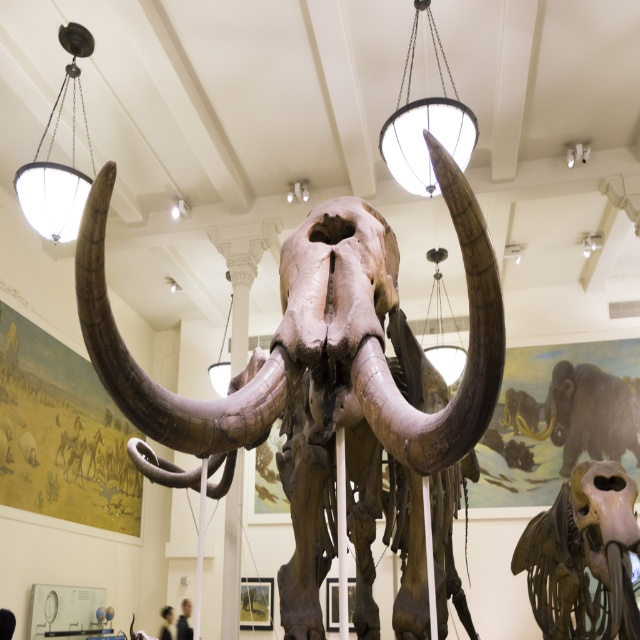Elephant: (515, 360, 639, 477), (500, 387, 541, 442)
